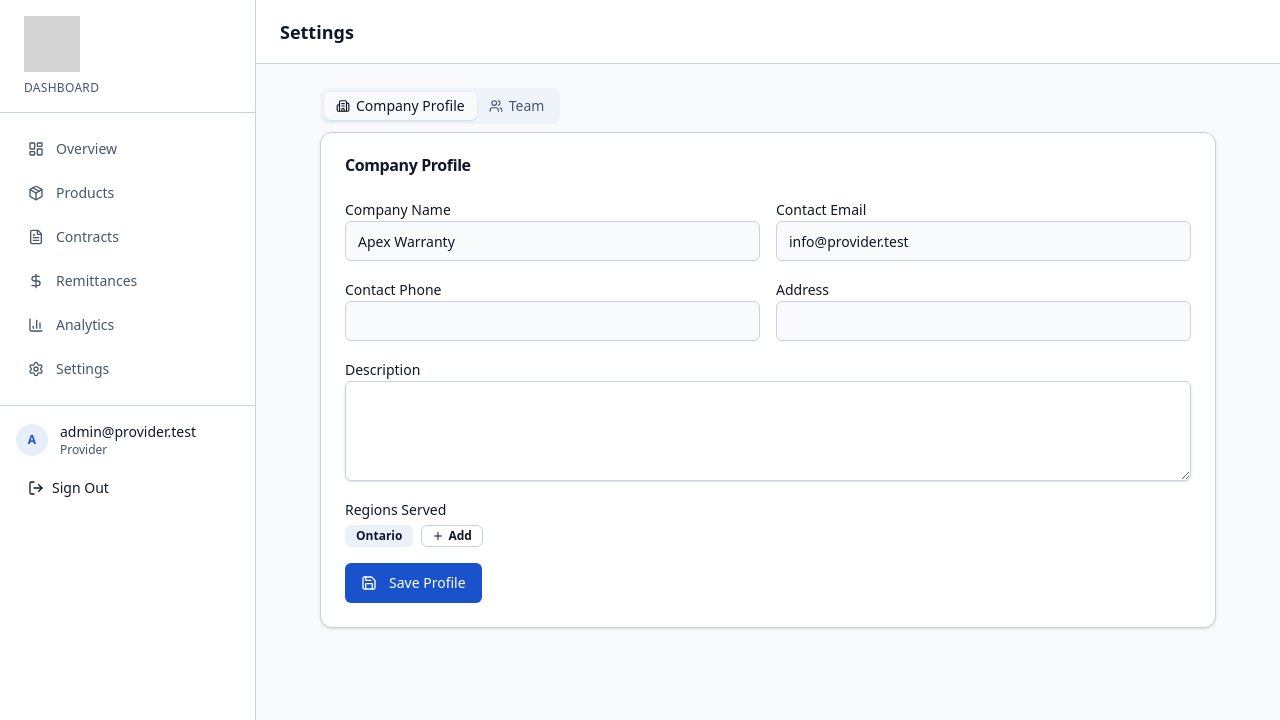
ProviderSettingsPage team management › creates provider members through company-access-tools and shows the temporary password
Click the tab "Team".
click(517, 106)  # box [477,92,556,120]
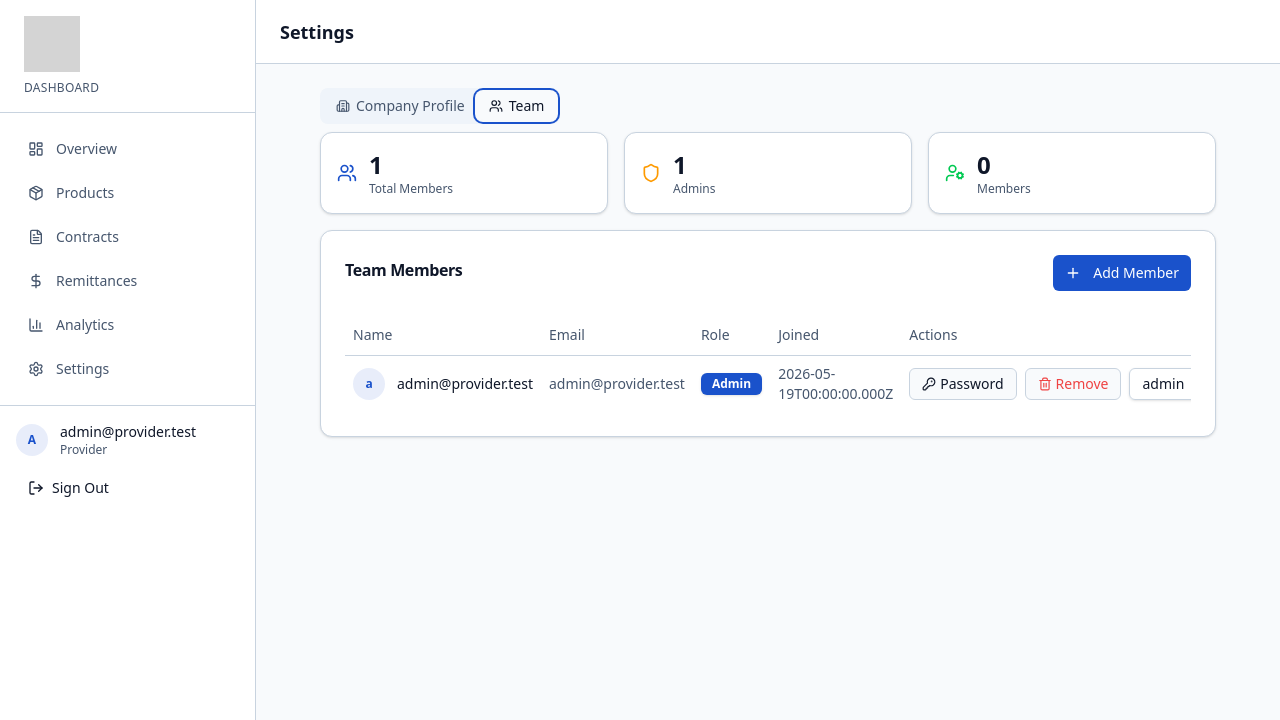
Click the button "Add Member".
click(1122, 273)  # box [1053,255,1191,291]
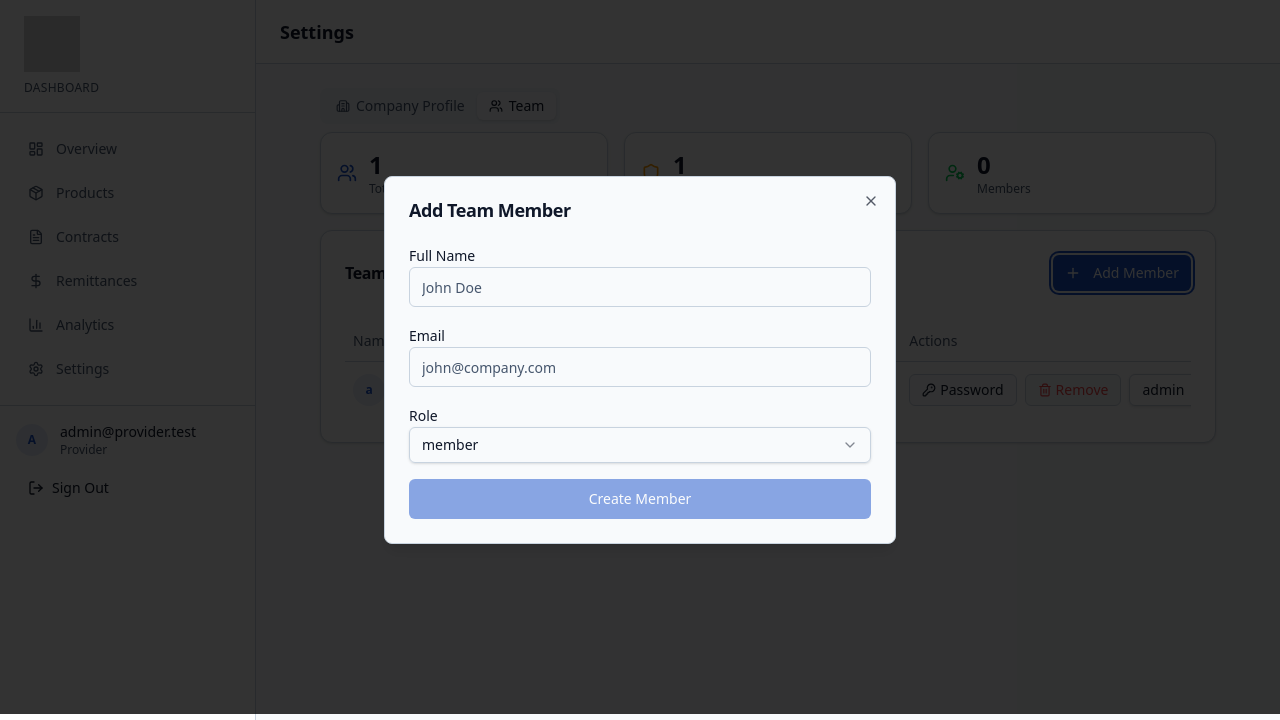
Type "Pat Provider" into the field with placeholder "John Doe".
click(640, 287); type("Pat Provider")  # box [409,267,871,307]
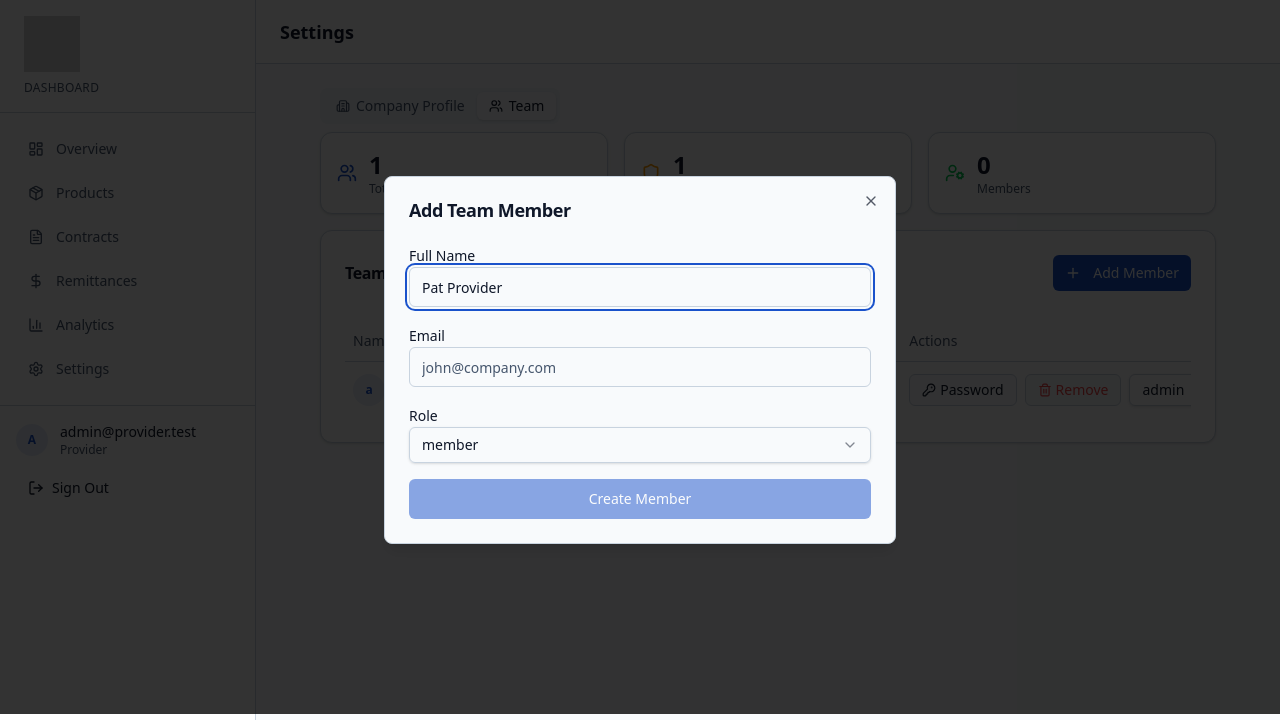
Type "member@provider.test" into the field with placeholder "john@company.com".
click(640, 367); type("member@provider.test")  # box [409,347,871,387]
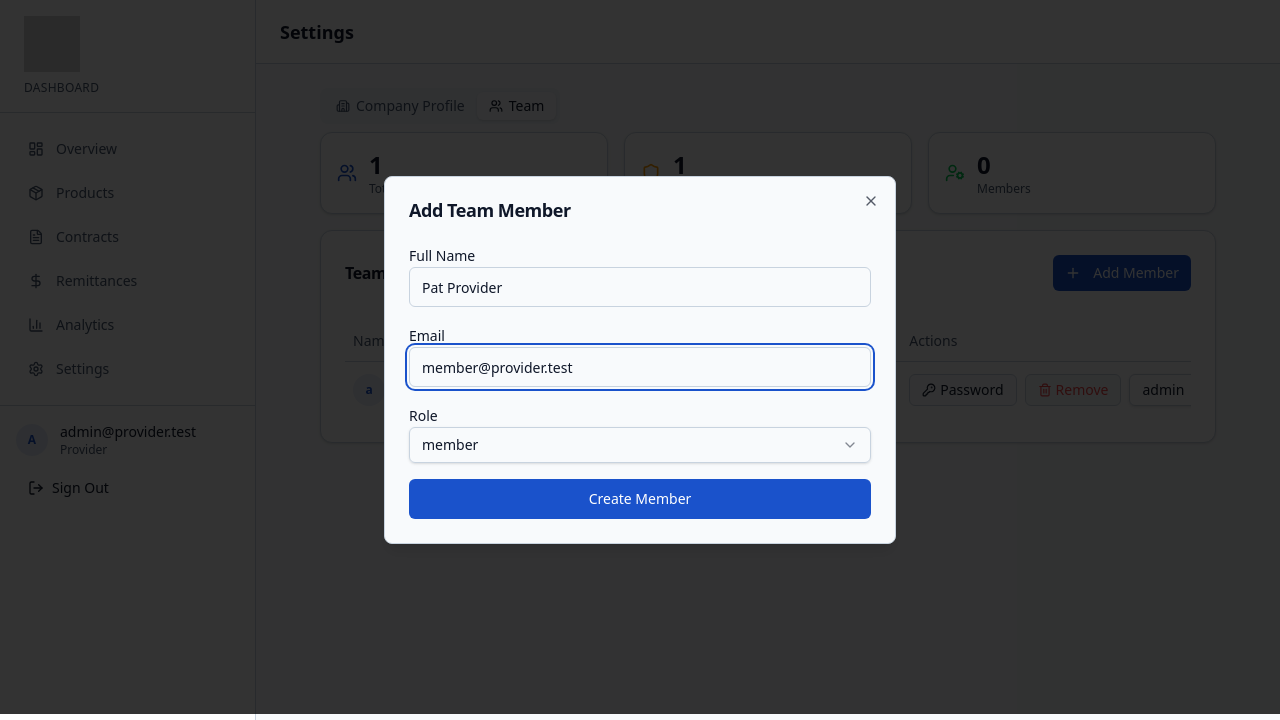
Click the button "Create Member".
click(640, 499)  # box [409,479,871,519]
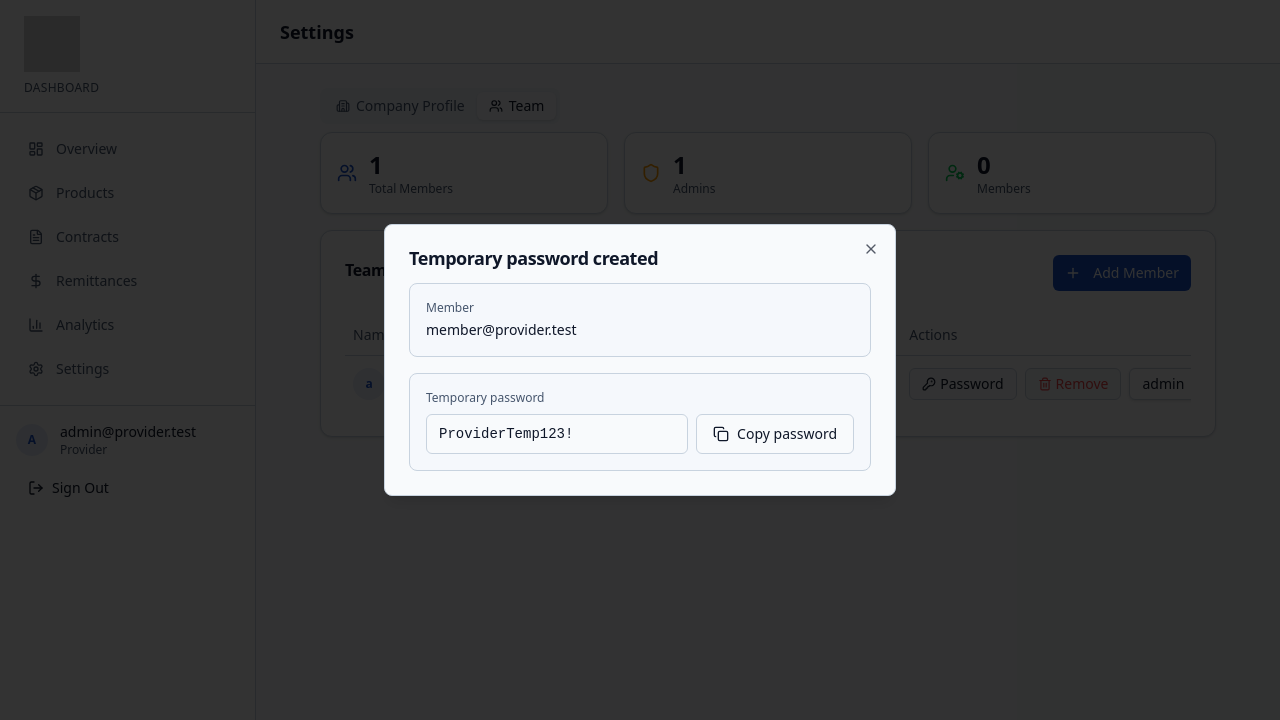
Expected: the heading "Temporary password created" is shown, [409,246,658,270]
Expected: the field showing "ProviderTemp123!" is shown, [426,414,688,454]
